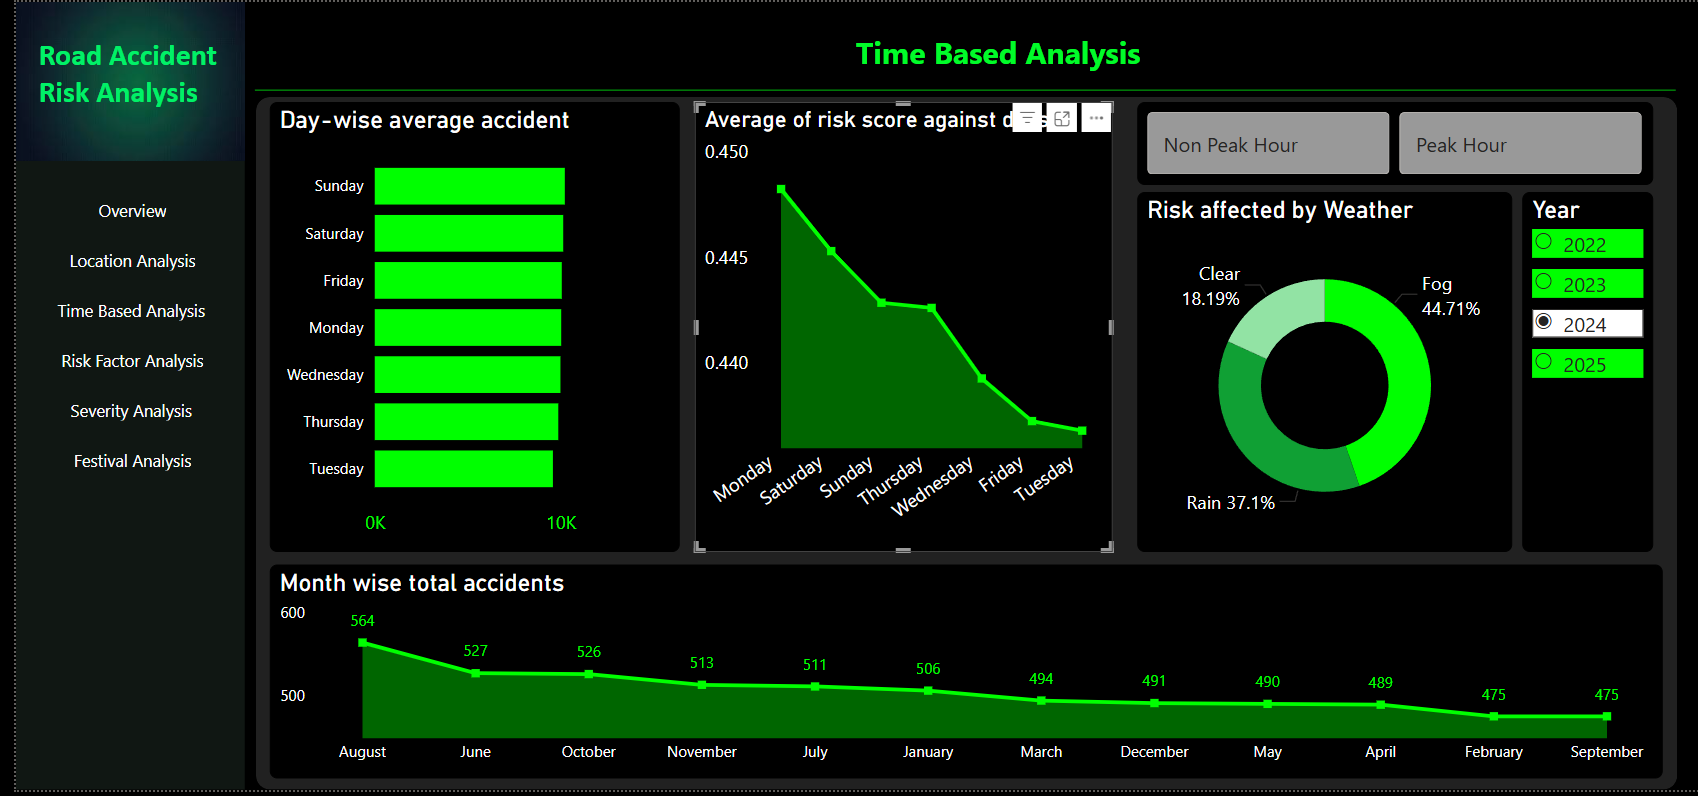

This screenshot's page, from the dashboard's own definition file:
{"tool":"powerbi","page":{"name":"Time Based Analysis","canvas":[1350,630],"ordinal":2},"visuals":[{"type":"shape","box":[0,0,183,630],"z":0},{"type":"image","box":[0,0,183,127],"z":1000},{"type":"textbox","box":[13,22,160,85],"z":2000},{"type":"actionButton","box":[13,146,160,40],"z":3000},{"type":"actionButton","box":[13,186,160,40],"z":4000},{"type":"actionButton","box":[12,226,160,40],"z":5000},{"type":"actionButton","box":[13,266,160,40],"z":6000},{"type":"actionButton","box":[12,306,160,40],"z":7000},{"type":"actionButton","box":[13,346,160,40],"z":8000},{"type":"shape","box":[191,65,1137,11],"z":9000},{"type":"textbox","box":[643,19,285,46],"z":10000},{"type":"shape","box":[192,76,1137,554],"z":11000},{"type":"clusteredBarChart","title":"Day-wise average accident","fields":{"Category":["public accidents.day_of_week"],"Y":["Avg(public accidents.accident_id)"]},"box":[203,80,328,360],"z":12000},{"type":"lineChart","title":"Average of risk score against days","fields":{"Category":["public accidents.day_of_week"],"Y":["Avg(public accidents.risk_score)"]},"box":[543,80,334,360],"z":13000},{"type":"areaChart","title":"Month wise total accidents","fields":{"Category":["public accidents.Month"],"Y":["CountNonNull(public accidents.accident_id)"]},"box":[203,450,1114,171],"z":14000},{"type":"donutChart","title":"Risk affected by Weather","fields":{"Category":["public accidents.Weather"],"Y":["Avg(public accidents.risk_score)"]},"box":[897,152,300,288],"z":15000},{"type":"advancedSlicerVisual","fields":{"Values":["public accidents.Peak Hour Status"]},"box":[897,80,413,66],"z":16000},{"type":"listSlicer","fields":{"Values":["public accidents.Year"]},"box":[1205,152,105,288],"z":18000}]}

Visuals, with their boxes in screenshot pixels (x1, y1, x2, y2), scaled from the page's 1350x630 canvas onto the 1698x796 screenshot:
shape: (left=0, top=0, right=230, bottom=795)
image: (left=0, top=0, right=230, bottom=160)
textbox: (left=16, top=28, right=218, bottom=135)
actionButton: (left=16, top=184, right=218, bottom=235)
actionButton: (left=16, top=235, right=218, bottom=286)
actionButton: (left=15, top=286, right=216, bottom=336)
actionButton: (left=16, top=336, right=218, bottom=387)
actionButton: (left=15, top=387, right=216, bottom=437)
actionButton: (left=16, top=437, right=218, bottom=488)
shape: (left=240, top=82, right=1670, bottom=96)
textbox: (left=809, top=24, right=1167, bottom=82)
shape: (left=241, top=96, right=1672, bottom=795)
"Day-wise average accident" clusteredBarChart: (left=255, top=101, right=668, bottom=556)
"Average of risk score against days" lineChart: (left=683, top=101, right=1103, bottom=556)
"Month wise total accidents" areaChart: (left=255, top=569, right=1656, bottom=785)
"Risk affected by Weather" donutChart: (left=1128, top=192, right=1506, bottom=556)
advancedSlicerVisual - public accidents.Peak Hour Status: (left=1128, top=101, right=1648, bottom=184)
listSlicer - public accidents.Year: (left=1516, top=192, right=1648, bottom=556)
